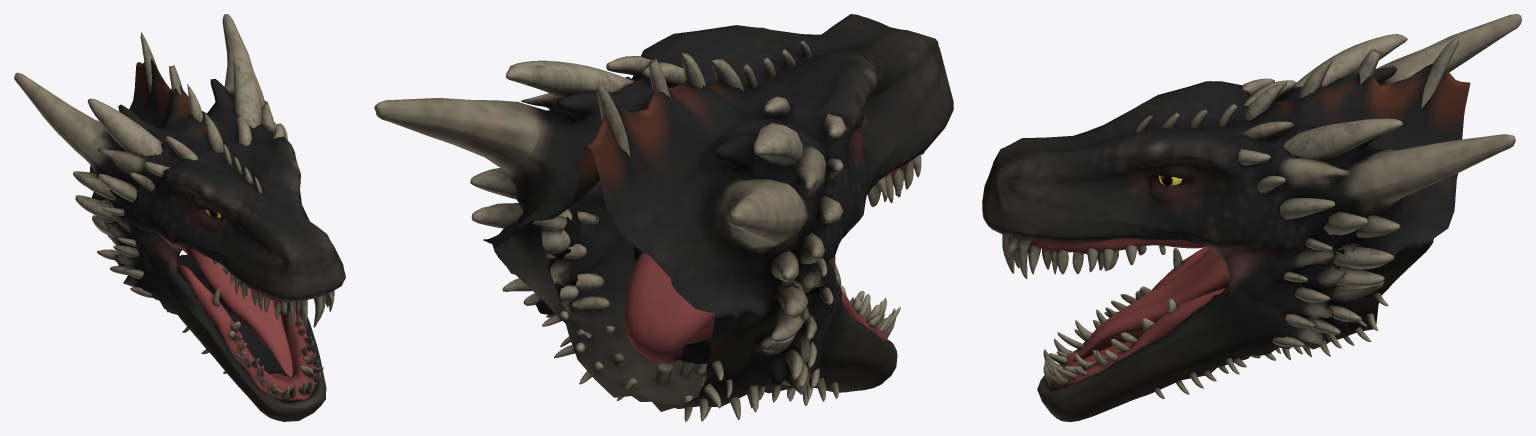
Rendered from dragon_000016.obj.
3 views of the same model, side by side, from view 1: azimuth 30°, elevation 25°; view 2: azimuth 150°, elevation 25°; view 3: azimuth 270°, elevation 25° (orthographic). The views are drawn at different scales.
Visible parts, largest first — view 1: Dragon_Untitled; view 2: Dragon_Untitled; view 3: Dragon_Untitled.
Part boxes in pixels (x1,y1,x2,y2): Dragon_Untitled: [14, 14, 345, 421]; Dragon_Untitled: [374, 14, 953, 421]; Dragon_Untitled: [982, 14, 1521, 421].
Bounding box in the file's own units: 2.72 × 3.43 × 4.44.
